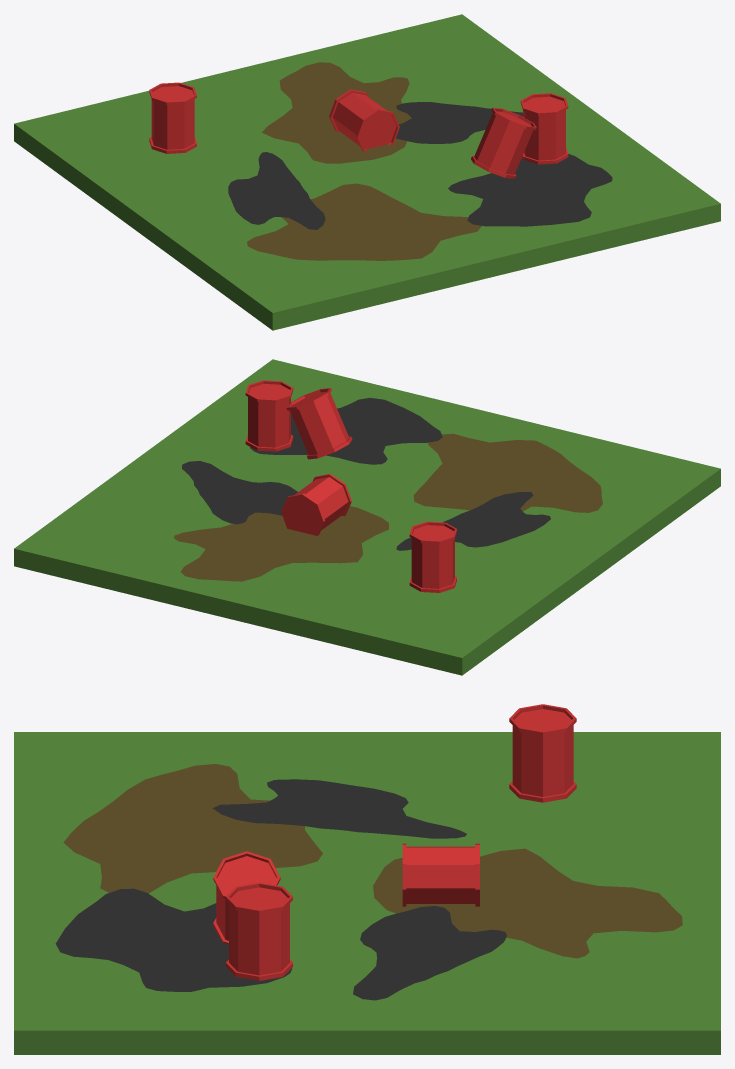
File: Park_Bad.fbx
The picture shows the model from 3 angles, top to bottom: view 1: azimuth 30°, elevation 25°; view 2: azimuth 150°, elevation 25°; view 3: azimuth 270°, elevation 25°; orthographic projection. The views are drawn at different scales.
Parts seen in each view (by area): view 1: Park_Bad; view 2: Park_Bad; view 3: Park_Bad.
Part boxes in pixels (x1=…): Park_Bad: x1=14, y1=14, x2=720, y2=330; Park_Bad: x1=14, y1=359, x2=720, y2=675; Park_Bad: x1=14, y1=704, x2=720, y2=1054.
Bounding box in the file's own units: 5.79 × 0.9964 × 5.79.
